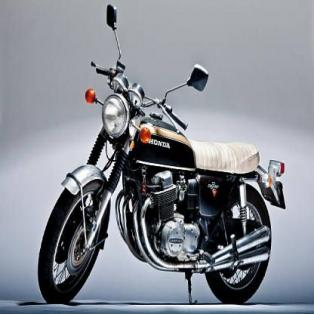Motocicleta: (36, 2, 291, 314)
